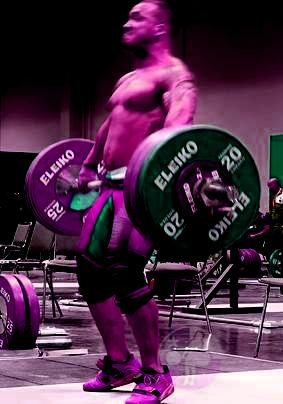Barbell: (224, 184, 242, 205)
